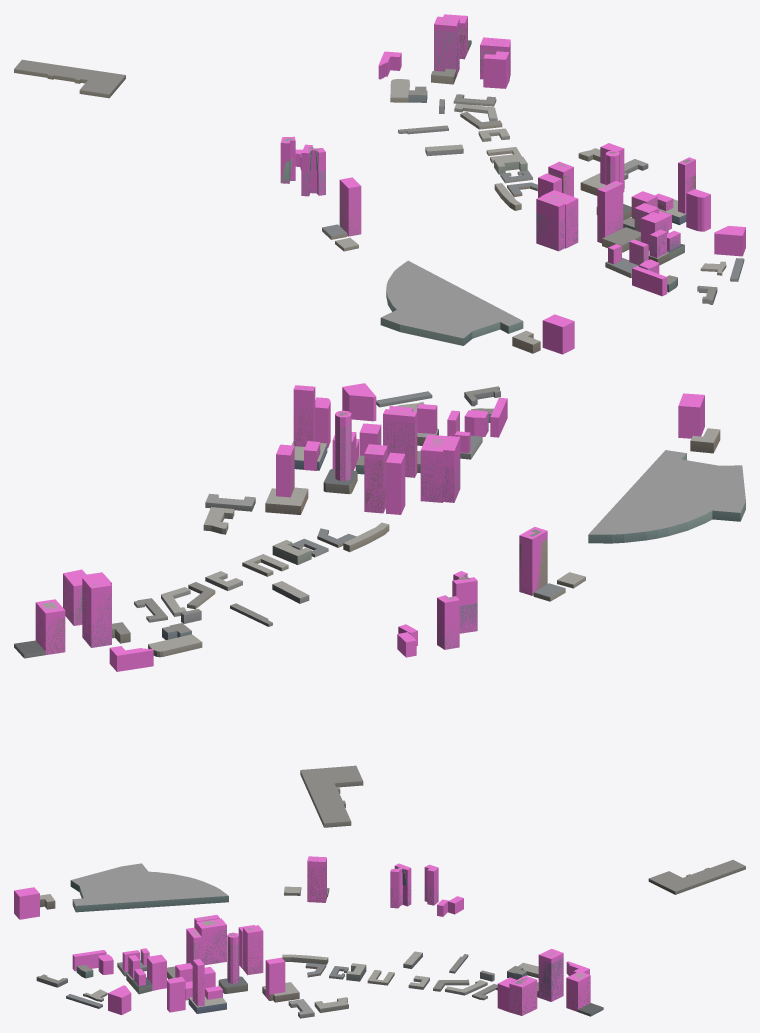
The model's file is bld_8_1.fbx.
3 views of the same model, one above another, from view 1: azimuth 30°, elevation 25°; view 2: azimuth 150°, elevation 25°; view 3: azimuth 270°, elevation 25° (orthographic). The views are drawn at different scales.
Parts seen in each view (by area): view 1: bld_8_1_LOD0, bld_8_1_COL; view 2: bld_8_1_LOD0, bld_8_1_COL; view 3: bld_8_1_LOD0, bld_8_1_COL.
Boxes of the visible parts, x1,y1,x2,y2 form: bld_8_1_LOD0: [14, 16, 744, 353]; bld_8_1_COL: [280, 14, 745, 354]; bld_8_1_LOD0: [14, 386, 745, 827]; bld_8_1_COL: [35, 383, 704, 671]; bld_8_1_LOD0: [36, 858, 745, 1018]; bld_8_1_COL: [14, 856, 590, 1015].
Size of what is drawn, in the model's own units: 1025 by 161 by 2036.
